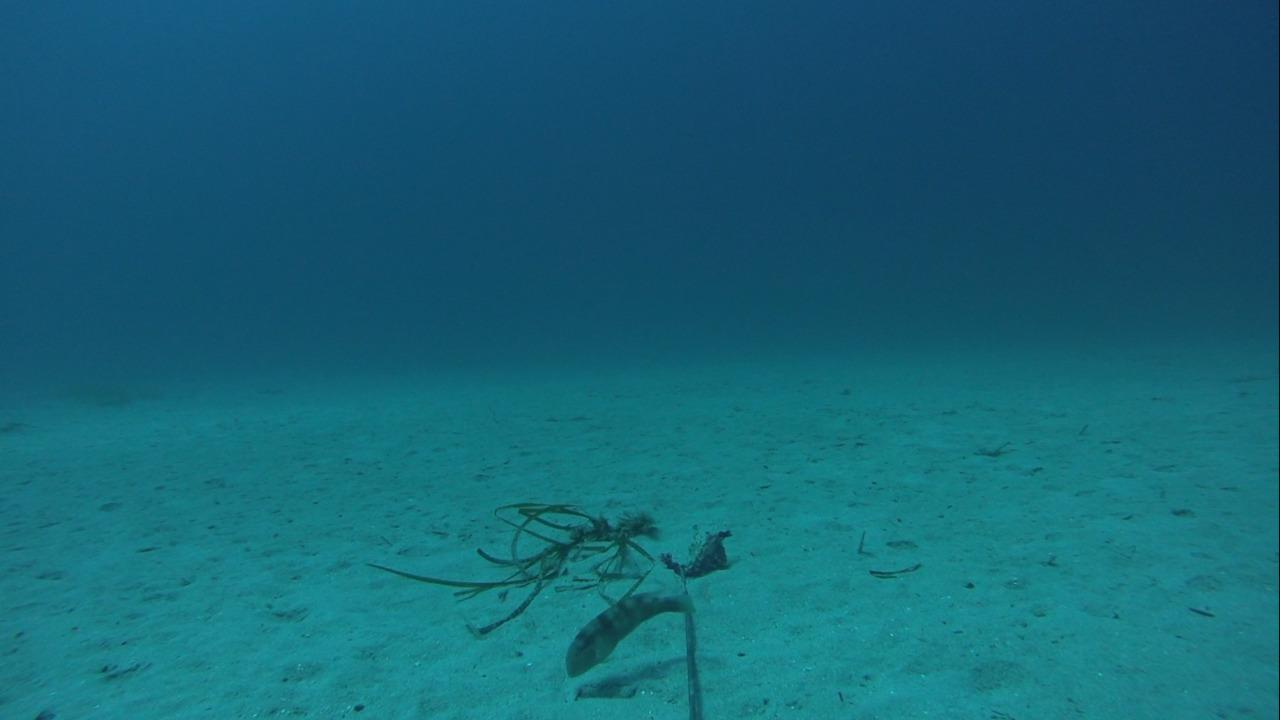raor: (562, 586, 685, 681)
